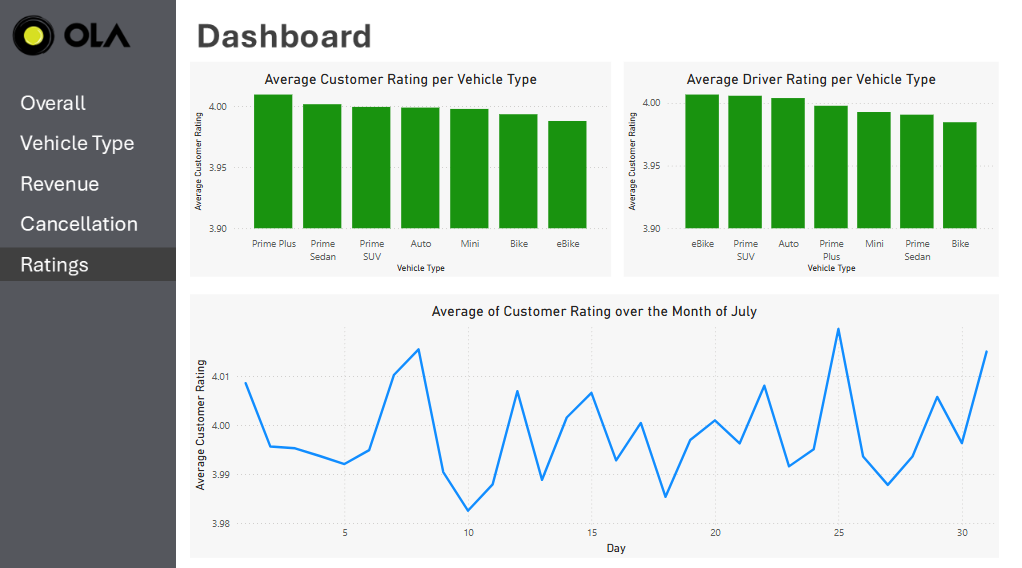

This screenshot's page, from the dashboard's own definition file:
{"tool":"powerbi","page":{"name":"Ratings","canvas":[1280,720],"ordinal":4},"visuals":[{"type":"actionButton","box":[0,163,218,40],"z":0},{"type":"actionButton","box":[0,214.3,218.6,35.7],"z":1000},{"type":"actionButton","box":[0,265.7,218.6,35.7],"z":2000},{"type":"actionButton","box":[0,114.3,218.6,35.7],"z":3000},{"type":"columnChart","title":"Average Customer Rating per Vehicle Type","fields":{"Category":["July.Vehicle_Type"],"Y":["Avg(July.Customer_Rating)"]},"box":[237.5,79.7,526.6,268.8],"z":3001},{"type":"columnChart","title":"Average Driver Rating per Vehicle Type","fields":{"Category":["July.Vehicle_Type"],"Y":["Avg(July.Driver_Ratings)"]},"box":[779.7,79.7,468.8,268.8],"z":3002},{"type":"lineChart","title":"Average of Customer Rating over the Month of July","fields":{"Category":["July.Date.Variation.Date Hierarchy.Day"],"Y":["Avg(July.Customer_Rating)"]},"box":[237.5,370.3,1010.9,329.7],"z":3003}]}

Visuals, with their boxes on the page's 1280x720 design canvas (x1, y1, x2, y2). These are canvas units, not pixel positions in the 1022x568 screenshot, which may show the page scaled, cropped or inside an application window:
actionButton: detection(0, 163, 218, 203)
actionButton: detection(0, 214, 219, 250)
actionButton: detection(0, 266, 219, 301)
actionButton: detection(0, 114, 219, 150)
"Average Customer Rating per Vehicle Type" columnChart: detection(238, 80, 764, 348)
"Average Driver Rating per Vehicle Type" columnChart: detection(780, 80, 1248, 348)
"Average of Customer Rating over the Month of July" lineChart: detection(238, 370, 1248, 700)
